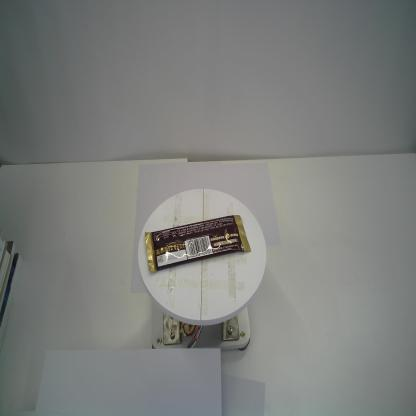Chocolate: (144, 213, 252, 274)
